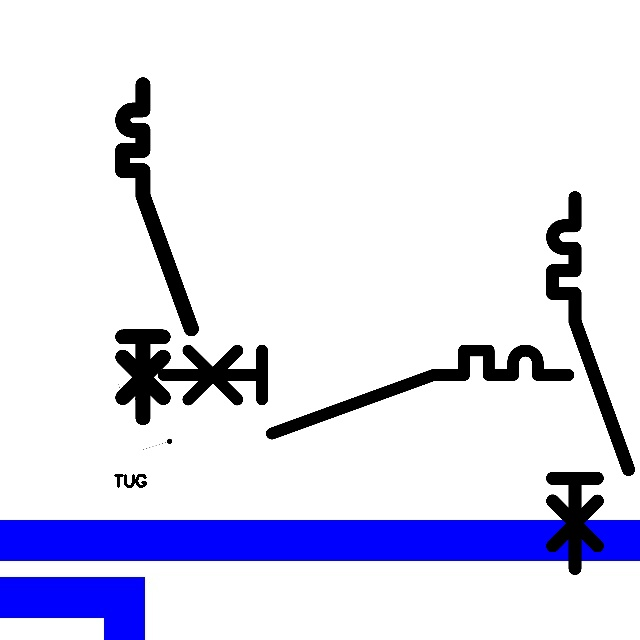interruptor_termomagnetico: (153, 340, 579, 444), (543, 188, 638, 578), (114, 76, 200, 427)
